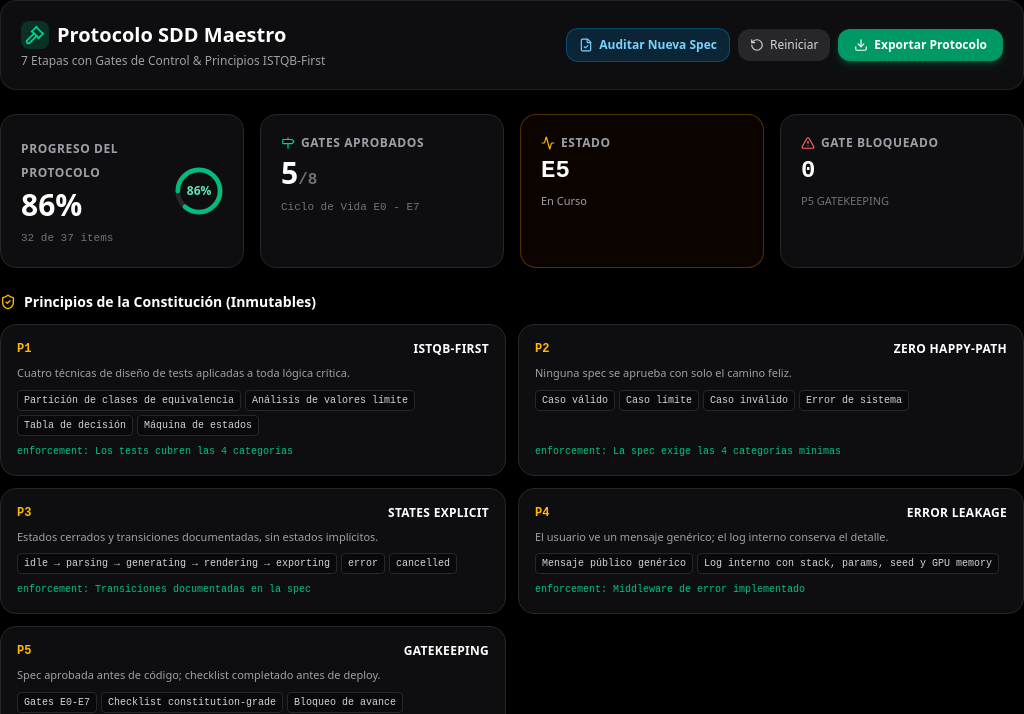
Scenario: SddMaestroView — spec auditor round trip › clears the input and the result together
Click the button "Auditar Nueva Spec": (648, 45) [566,28,730,62]
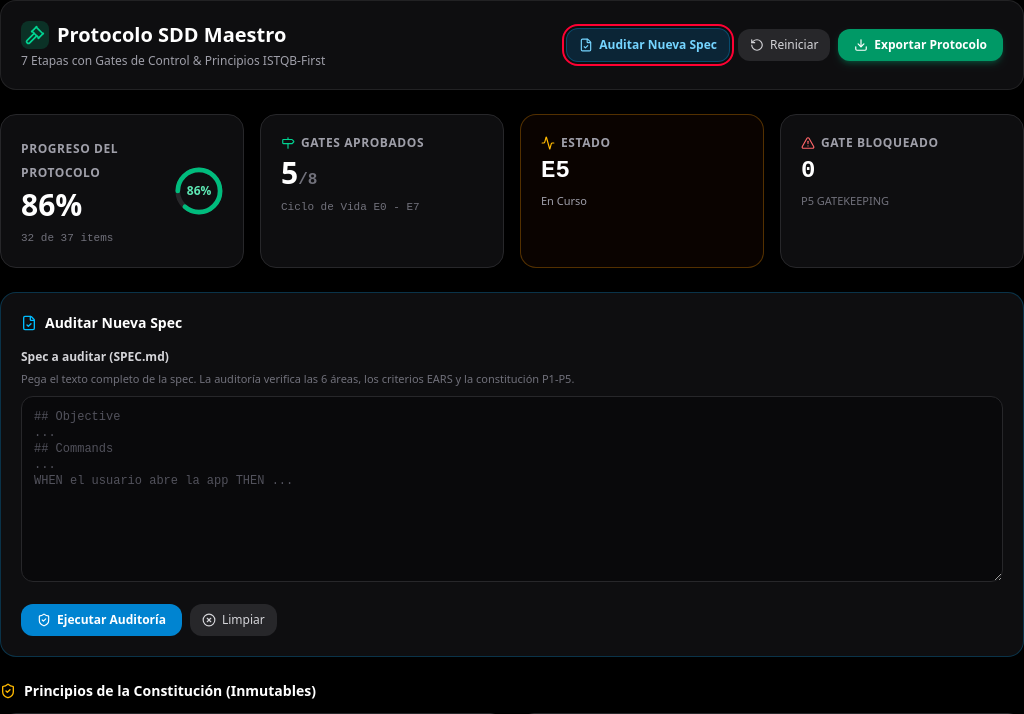
Replace the text in the text box labelled "Spec a auditar (SPEC.md)" with "# SPEC — Zion ## Objective Restaurar el workspace para que build, lint y tests pasen en verde. ## Commands npm run build, npm run lint, npm test ## Project Structure src/, server.ts, scripts/ ## Code ": (512, 488) [21,396,1003,582]
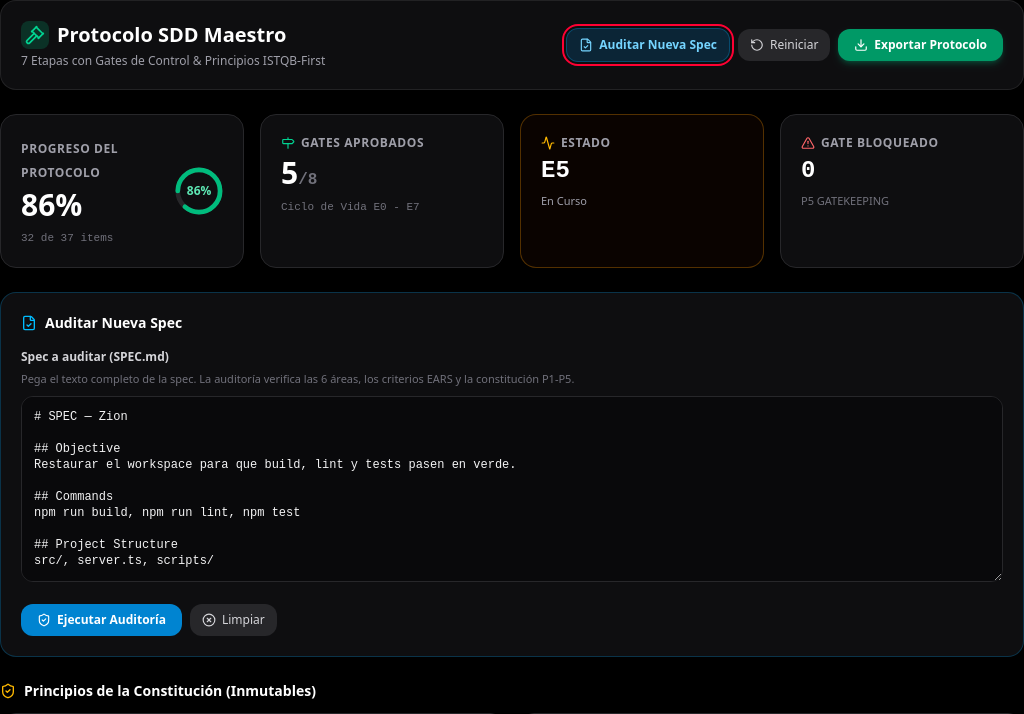
Click the button "Ejecutar Auditoría": (102, 620) [21,604,182,636]
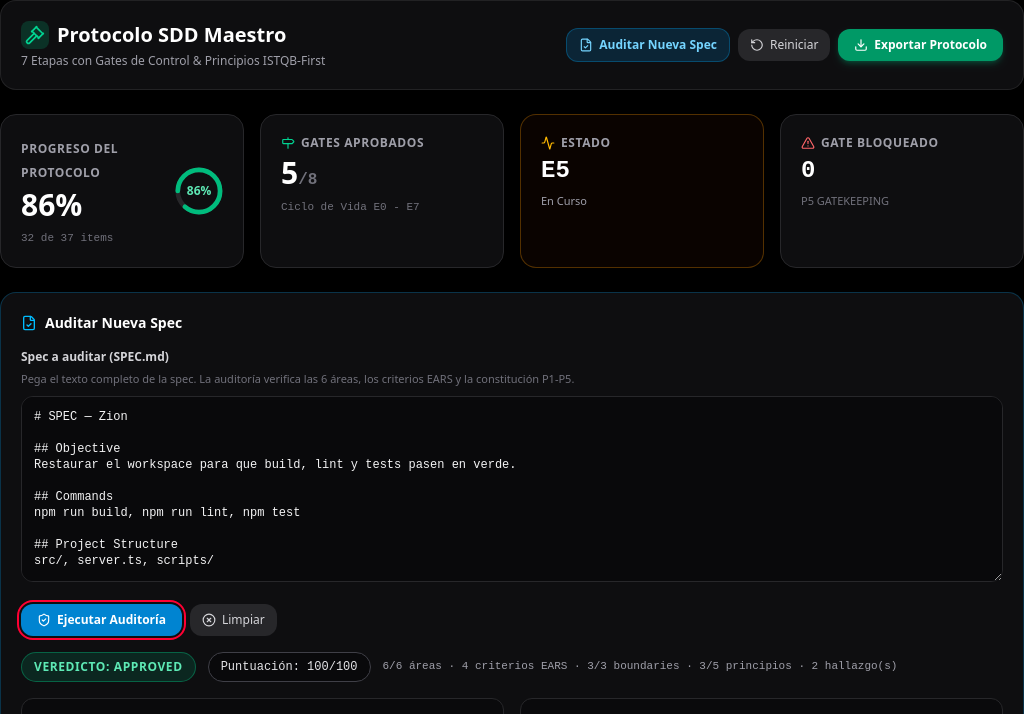
Click the button "Limpiar": (233, 620) [190,604,277,636]
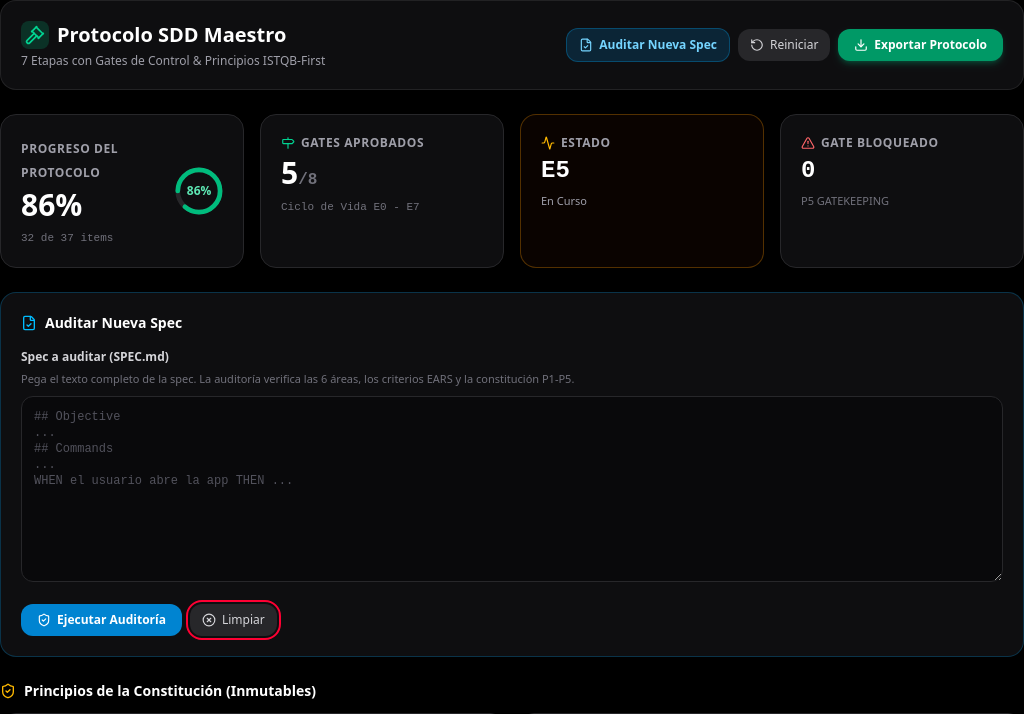
Check: the text box labelled "Spec a auditar (SPEC.md)" is empty, box [21,396,1003,582]
